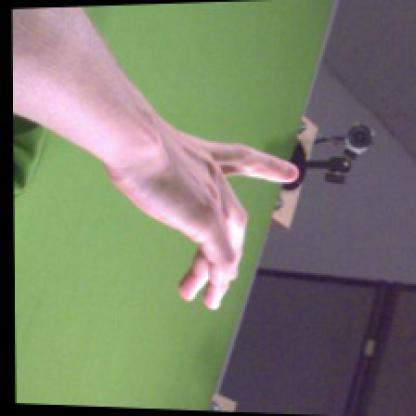Hand: (115, 135, 300, 311)
